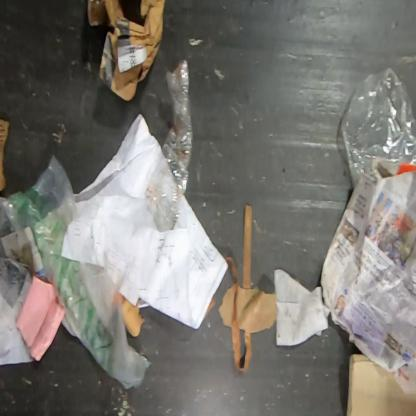cardboard: (85, 0, 166, 102), (344, 352, 415, 415), (236, 286, 276, 334), (121, 293, 146, 338), (0, 118, 10, 193), (217, 284, 234, 328)
soft_plastic: (0, 154, 154, 391), (340, 67, 415, 187), (144, 58, 194, 233)
